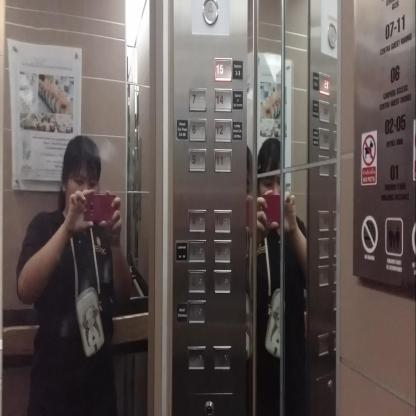1: (187, 300, 206, 324)
10: (213, 208, 232, 234)
11: (214, 148, 232, 174)
12: (214, 117, 232, 142)
14: (213, 88, 233, 111)
15: (214, 56, 233, 81)
2: (188, 270, 206, 292)
3: (188, 240, 204, 262)
4: (188, 208, 206, 233)
5: (188, 148, 206, 172)
6: (189, 118, 206, 142)
7: (188, 88, 207, 112)
9: (213, 238, 232, 263)
alarm: (202, 0, 219, 24)
blur: (212, 345, 231, 371), (186, 346, 206, 370), (213, 268, 230, 292)
keyhole: (203, 398, 215, 416), (324, 374, 334, 392)
unknown: (318, 70, 331, 95), (318, 98, 331, 122), (318, 126, 331, 150)
